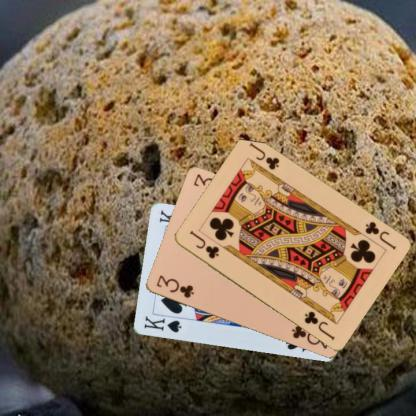3c: (153, 273, 195, 300)
Jc: (362, 218, 398, 252), (186, 228, 220, 260)
Ks: (141, 314, 183, 334)
